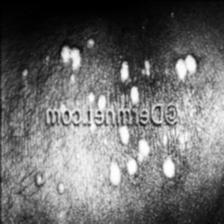Toxin: (54, 34, 84, 81), (152, 154, 178, 188)
